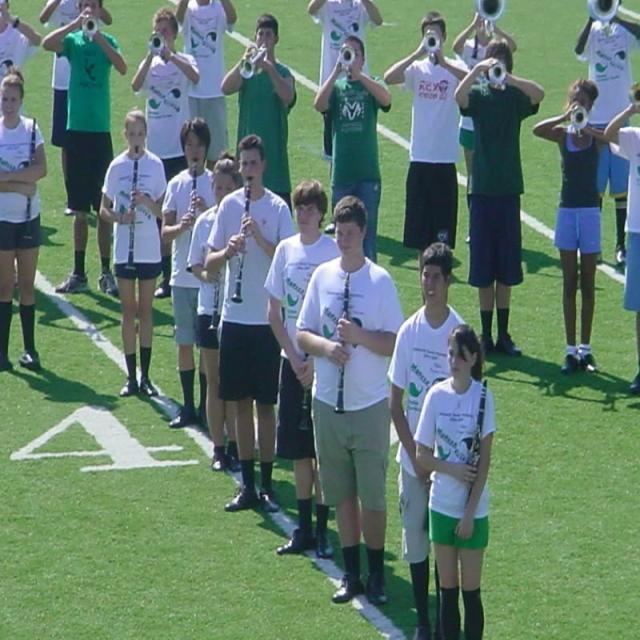clarinet: (232, 173, 254, 308), (21, 113, 39, 250), (334, 266, 349, 418), (467, 373, 488, 470), (295, 344, 314, 437), (125, 143, 138, 270), (186, 157, 198, 273), (204, 265, 223, 334)
